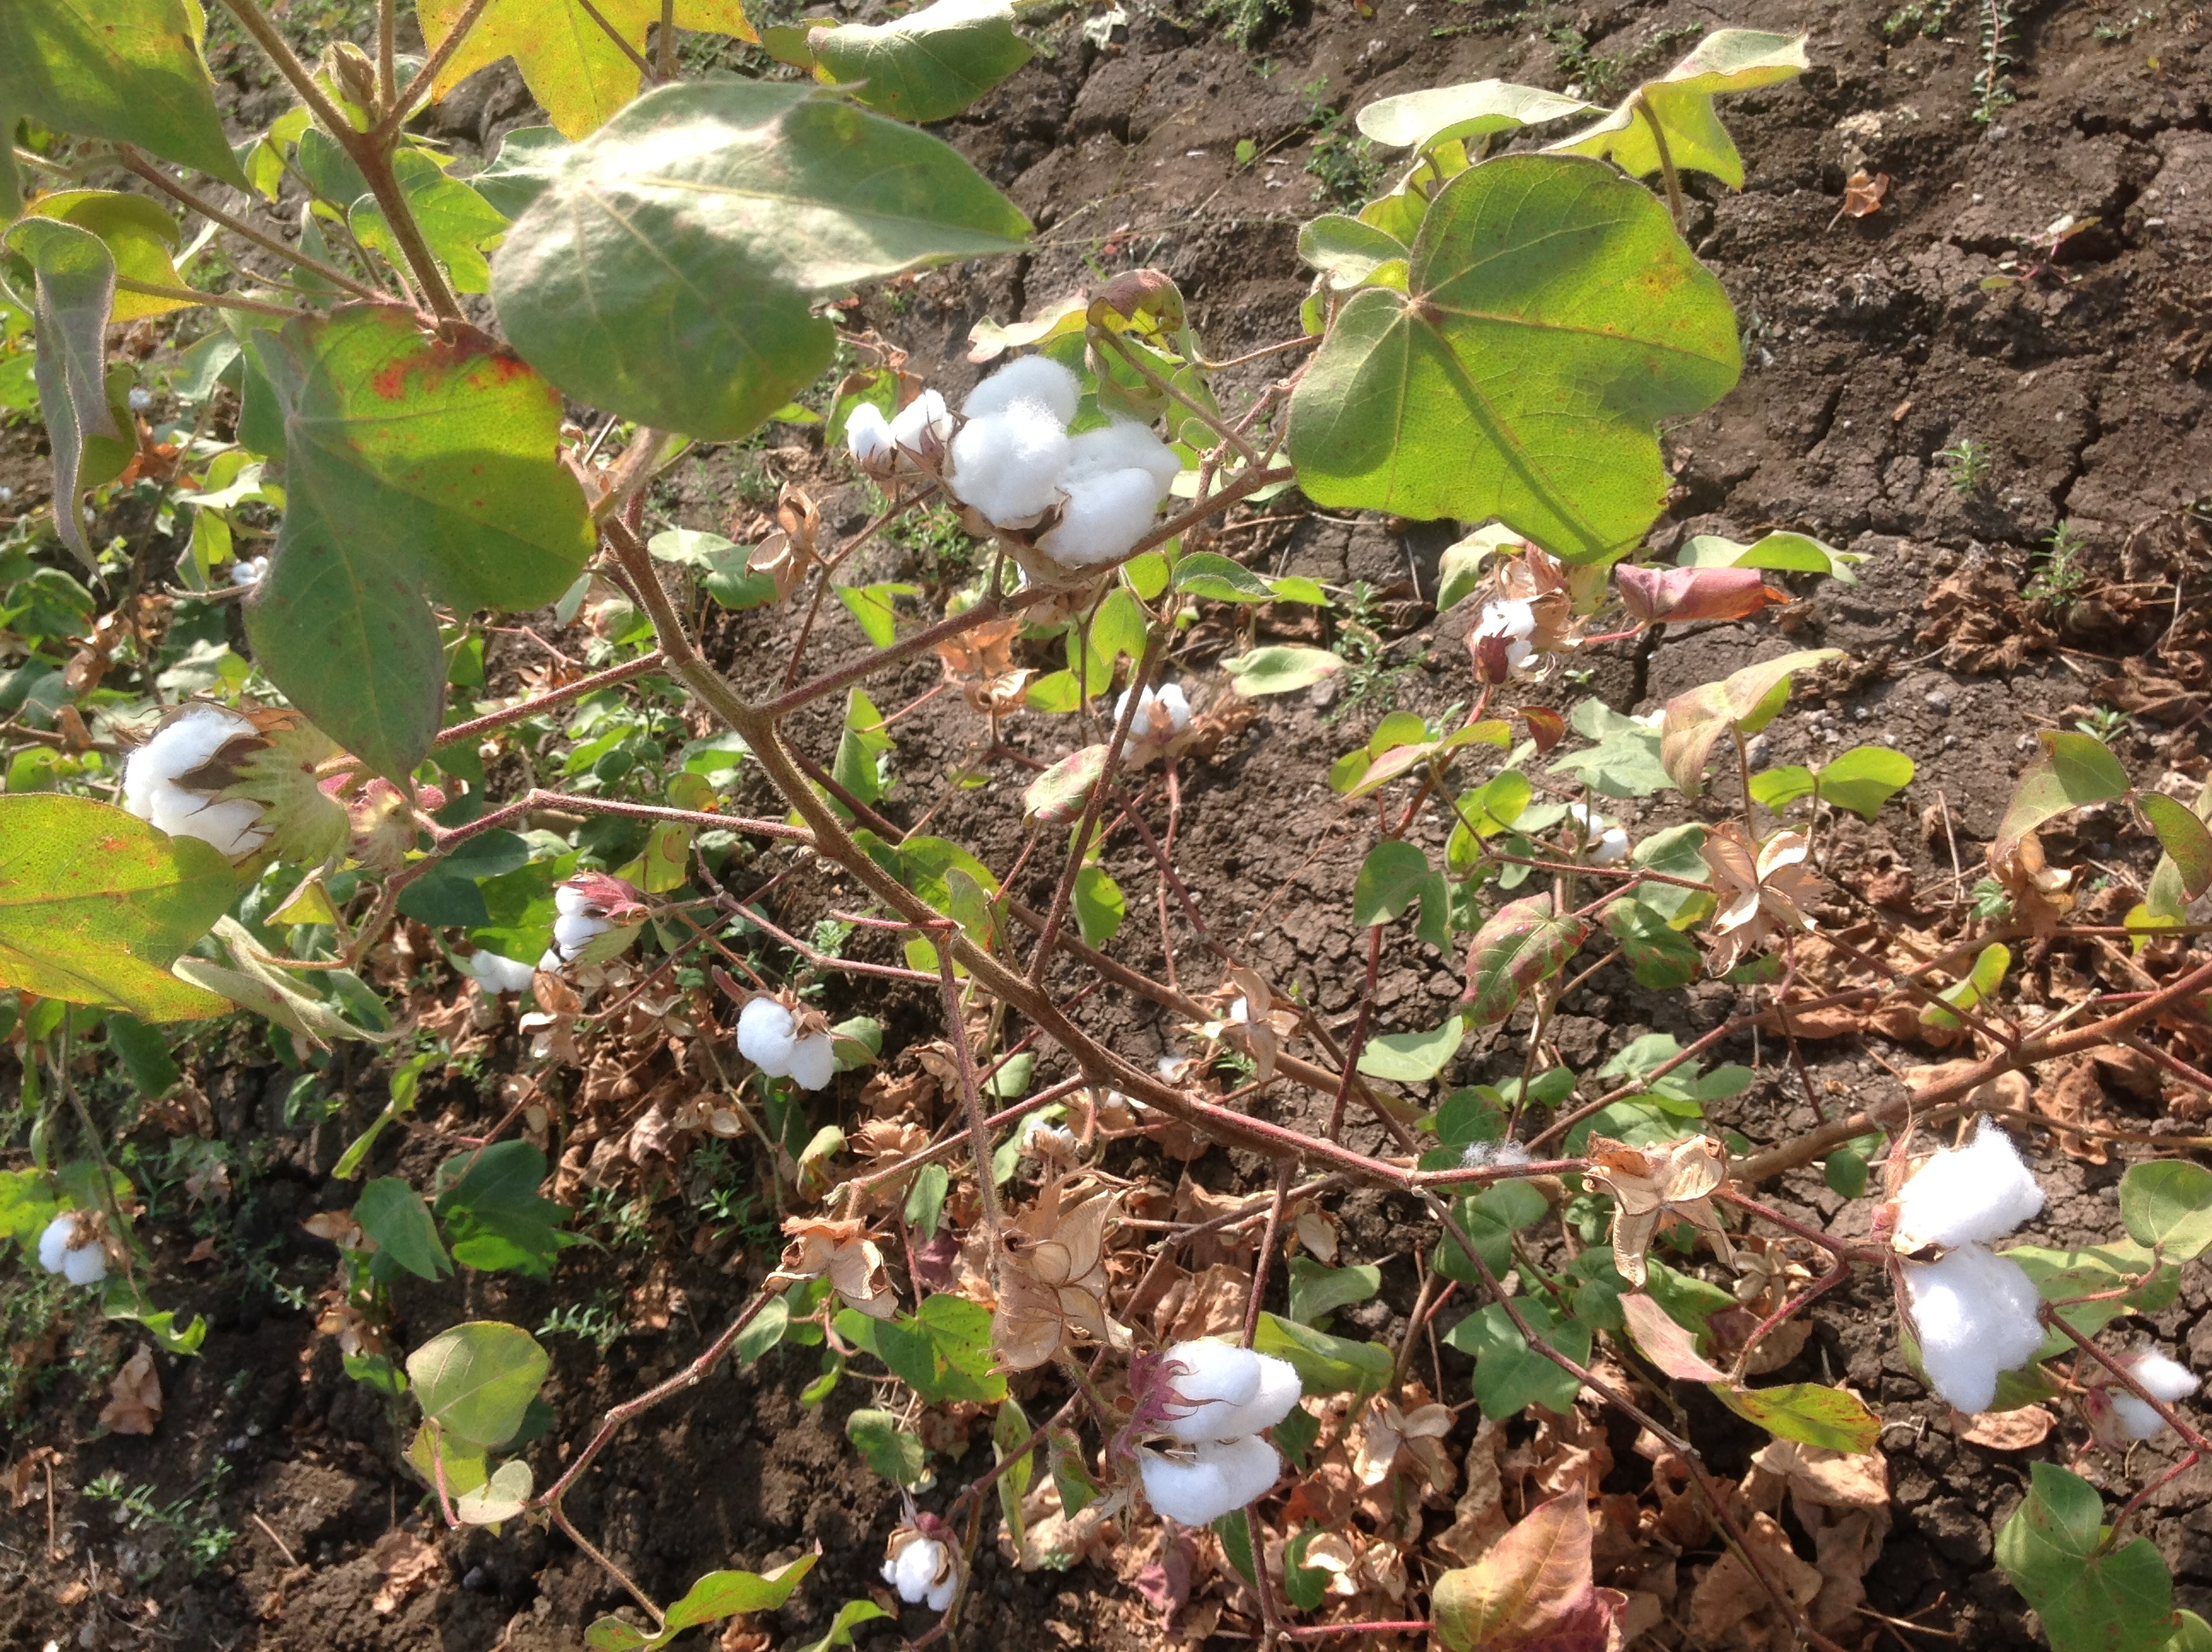cotton: (940, 351, 1190, 571), (1898, 1128, 2056, 1423), (111, 705, 317, 890), (1121, 1326, 1296, 1544), (465, 871, 611, 1001), (2080, 1333, 2200, 1449), (723, 989, 864, 1088), (836, 392, 968, 486), (874, 1518, 977, 1609), (42, 1213, 118, 1291)
